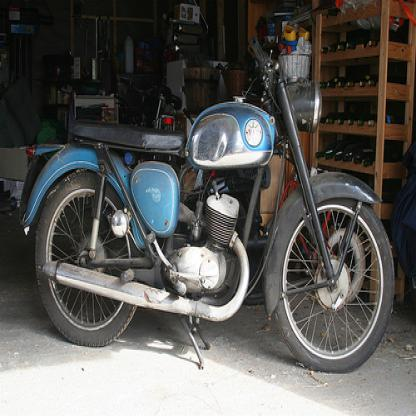motorbike: (17, 46, 396, 372)
